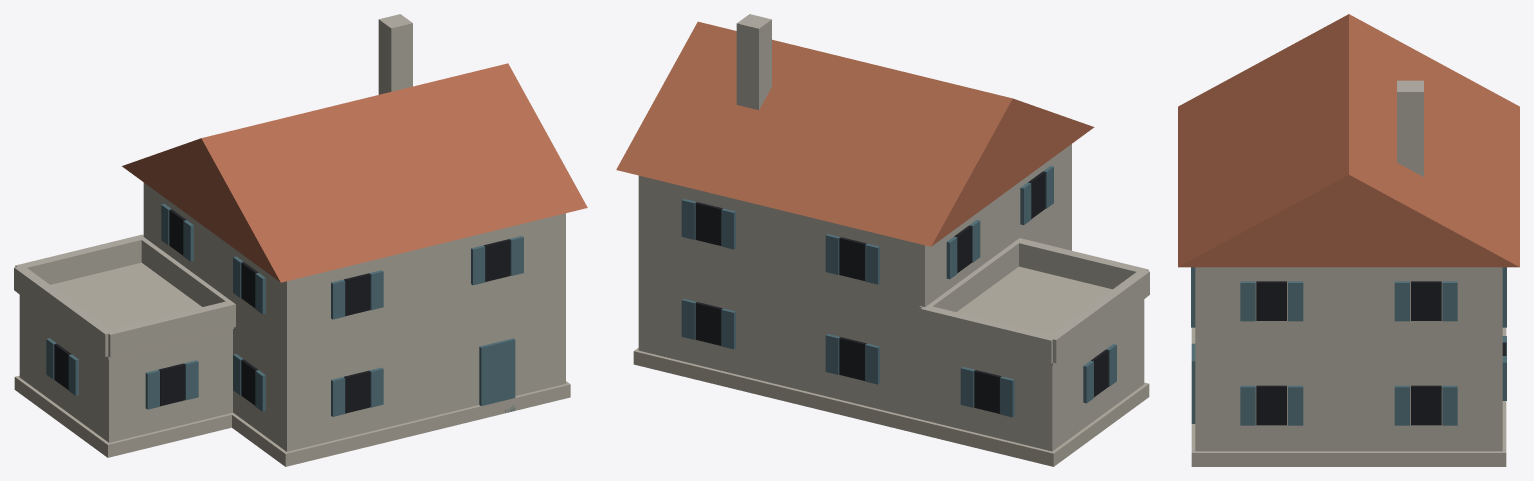
Rendered from a17_house_6.glb.
The picture shows the model from 3 angles, left to right: view 1: azimuth 30°, elevation 25°; view 2: azimuth 150°, elevation 25°; view 3: azimuth 270°, elevation 25°; orthographic projection. The views are drawn at different scales.
Parts seen in each view (by area): view 1: body; view 2: body; view 3: body.
Part boxes in pixels (x1,y1,x2,y2): body: [14, 14, 587, 466]; body: [616, 14, 1149, 466]; body: [1178, 14, 1519, 466].
Size of the model in its own units: 1 by 0.7235 by 0.6544.
